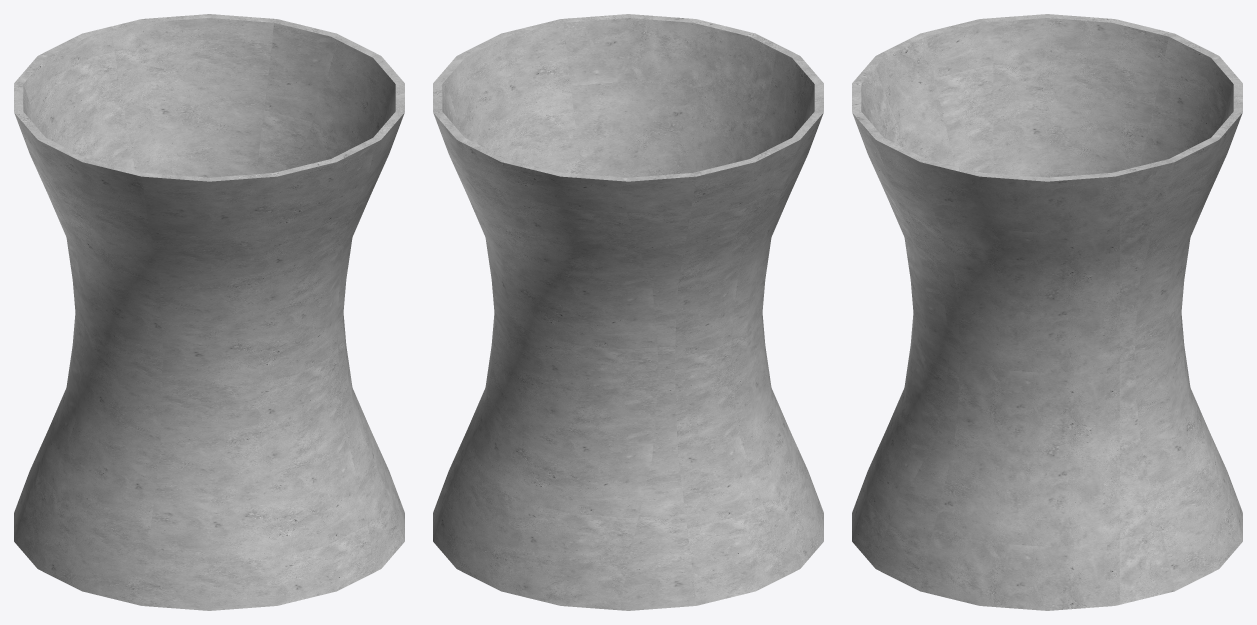
The model's file is Cooling_Tower.FBX.
3 views of the same model, side by side, from view 1: azimuth 30°, elevation 25°; view 2: azimuth 150°, elevation 25°; view 3: azimuth 270°, elevation 25° (orthographic).
Parts seen in each view (by area): view 1: Cylinder001; view 2: Cylinder001; view 3: Cylinder001.
Boxes of the visible parts, x1,y1,x2,y2 form: Cylinder001: (14, 14, 404, 610); Cylinder001: (433, 14, 823, 610); Cylinder001: (852, 14, 1242, 610).
Bounding box in the file's own units: 107 × 127 × 105.
Materials: 1 (1 with a texture image).
